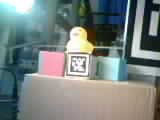duck: (67, 22, 92, 56)
